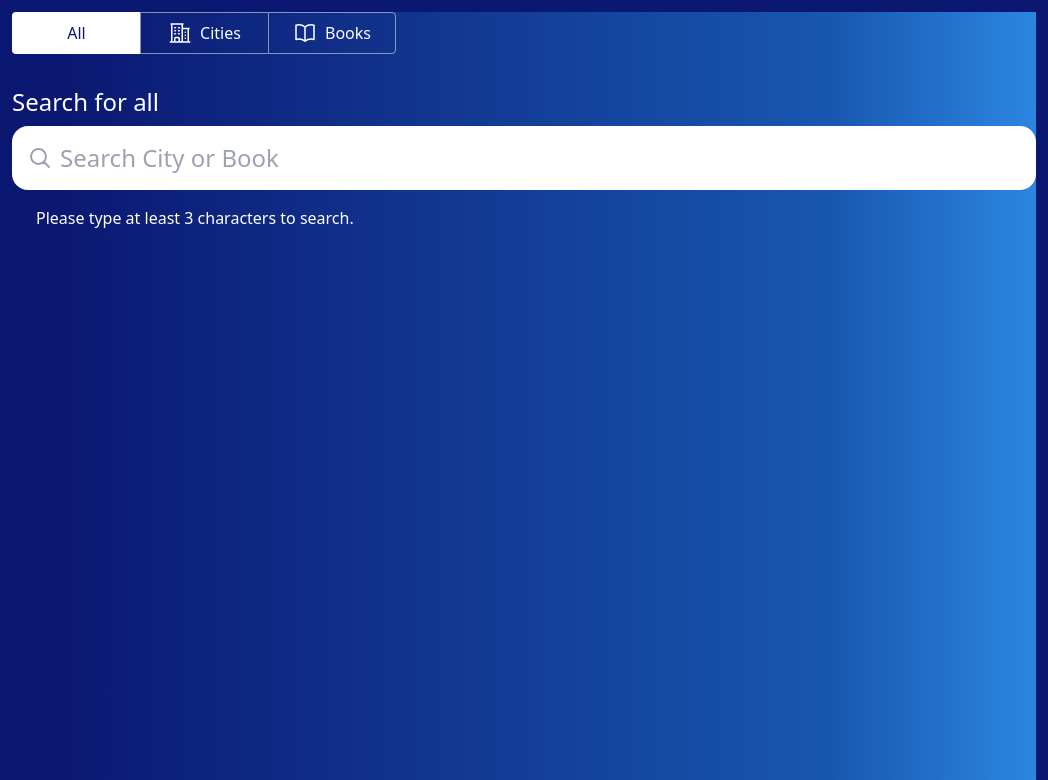
Autocomplete Integration › clears search with clear button escape
Type "san fr" into the field with placeholder "Search City or Book" at (524, 158), box top-left (12, 126), bottom-right (1036, 190)
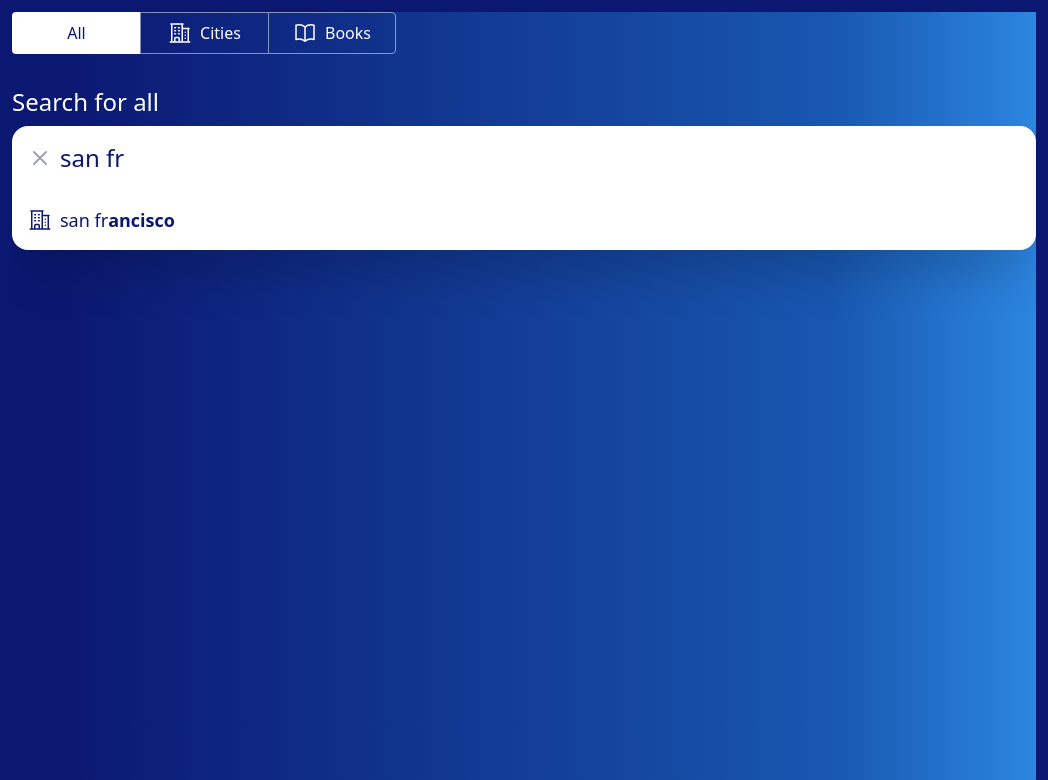
Check: the text "san francisco" is shown, box top-left (60, 206), bottom-right (175, 234)
Check: the icon with id "close-icon" is shown
Click the icon with id "close-icon" at (40, 158), box top-left (28, 146), bottom-right (52, 170)
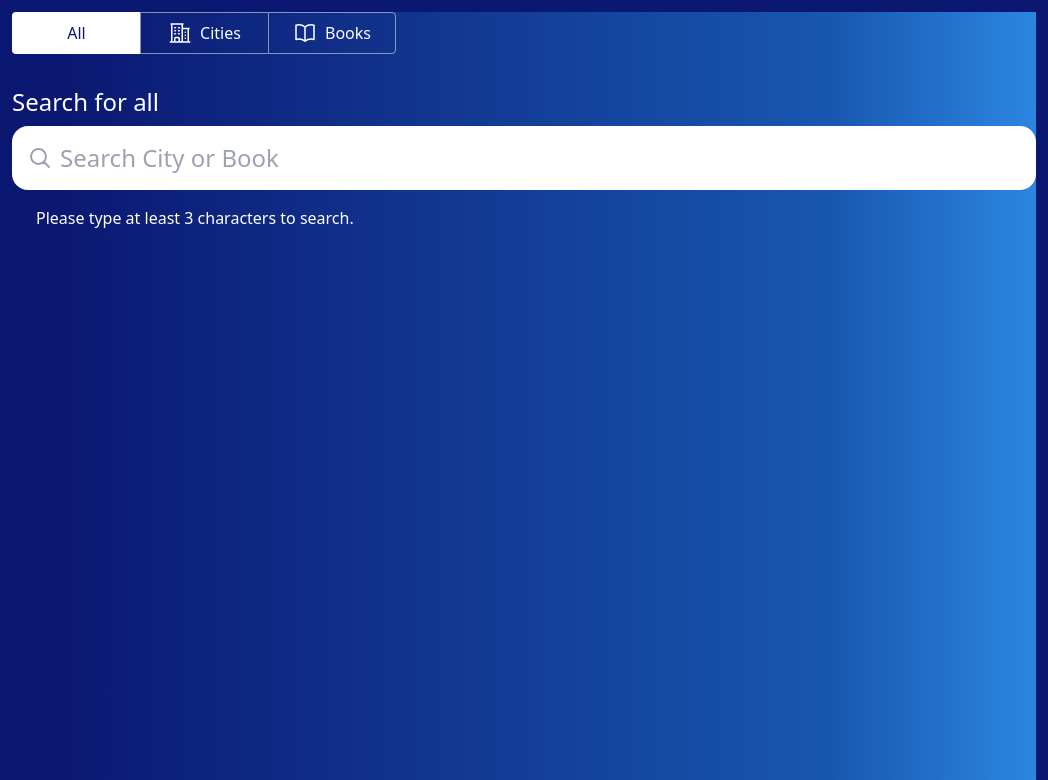
Check: the text "Please type at least 3 characters to search." is shown, box top-left (36, 207), bottom-right (354, 229)
Type "san fr" into the field with placeholder "Search City or Book" at (524, 158), box top-left (12, 126), bottom-right (1036, 190)
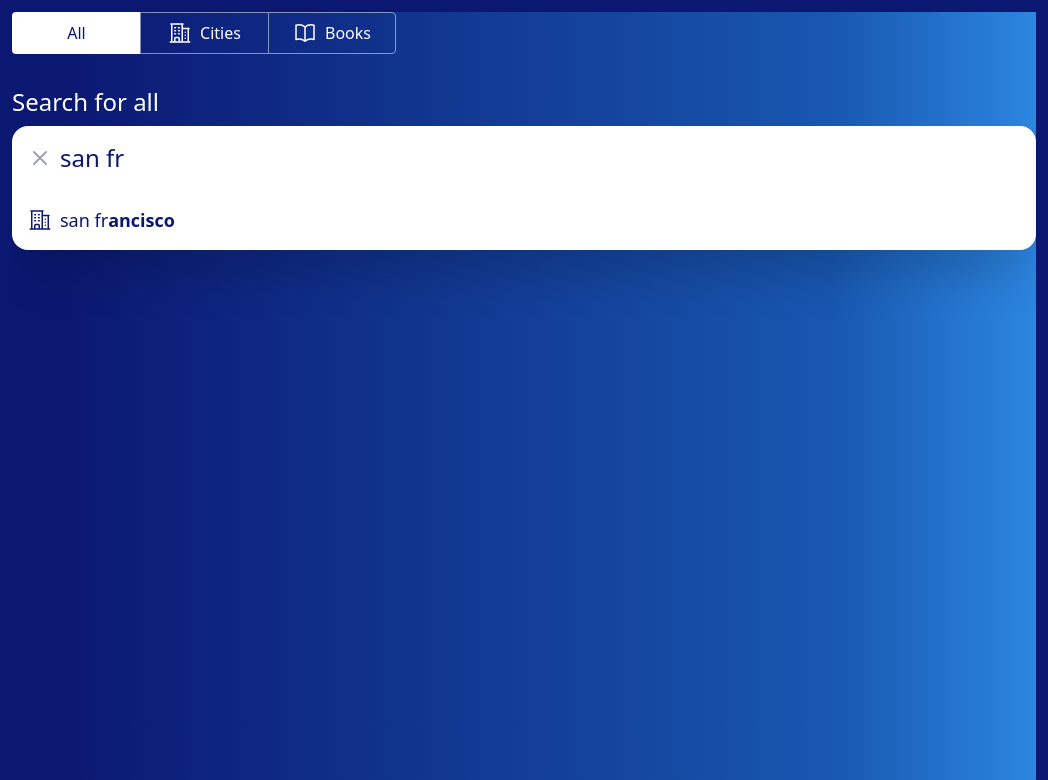
Check: the text "san francisco" is shown, box top-left (60, 206), bottom-right (175, 234)
Press Escape in the field, box top-left (12, 126), bottom-right (1036, 190)
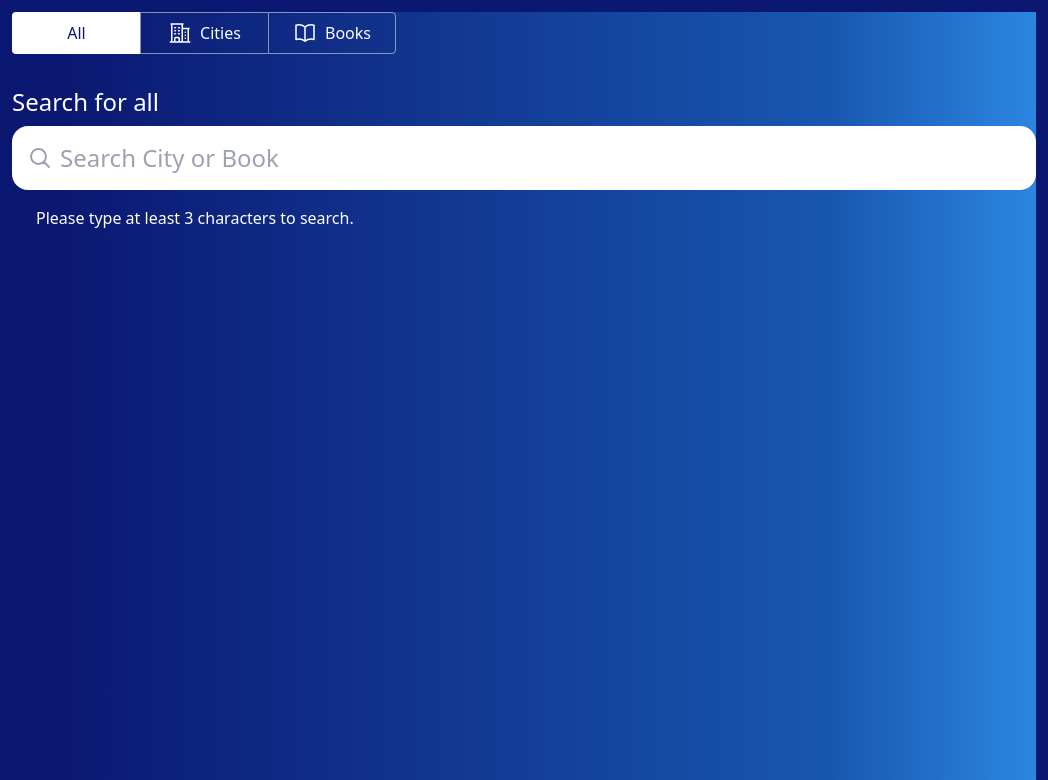
Check: the text "san francisco" is gone
Check: the text "Please type at least 3 characters to search." is shown, box top-left (36, 207), bottom-right (354, 229)
